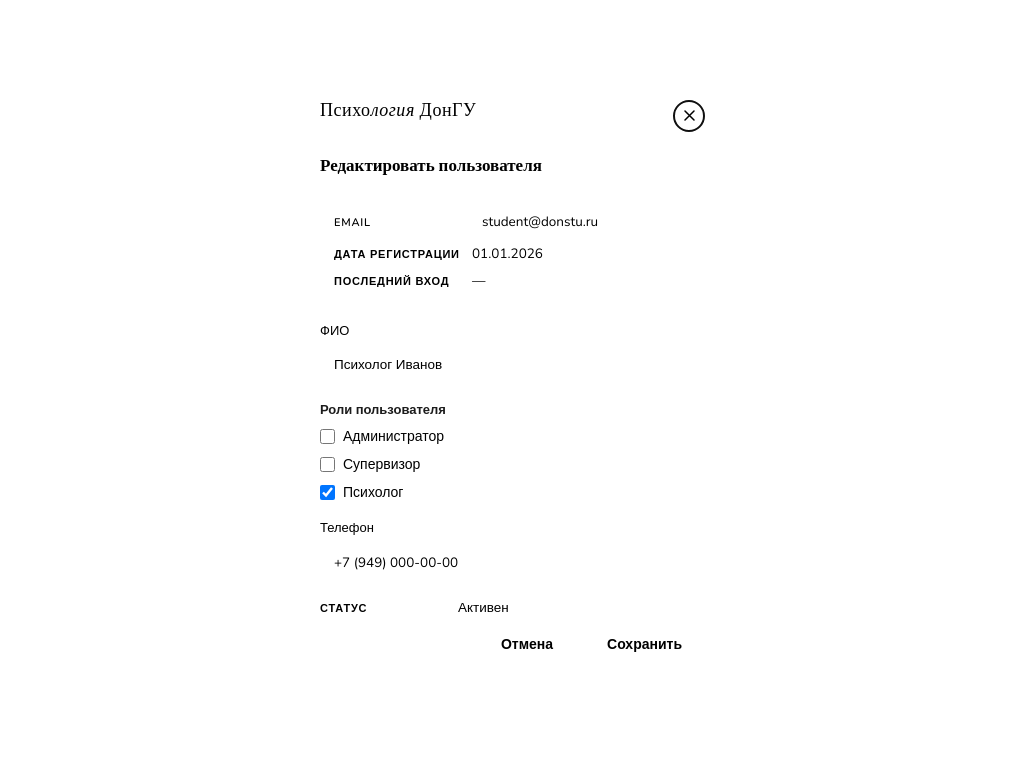
user with an existing staff role: checking another staff role reveals the legal basis block
The width and height of the screenshot is (1024, 768).
Check: the text "Документ-основание" is not shown
Click the checkbox labelled "Супервизор": click(328, 464) [320, 457, 335, 472]
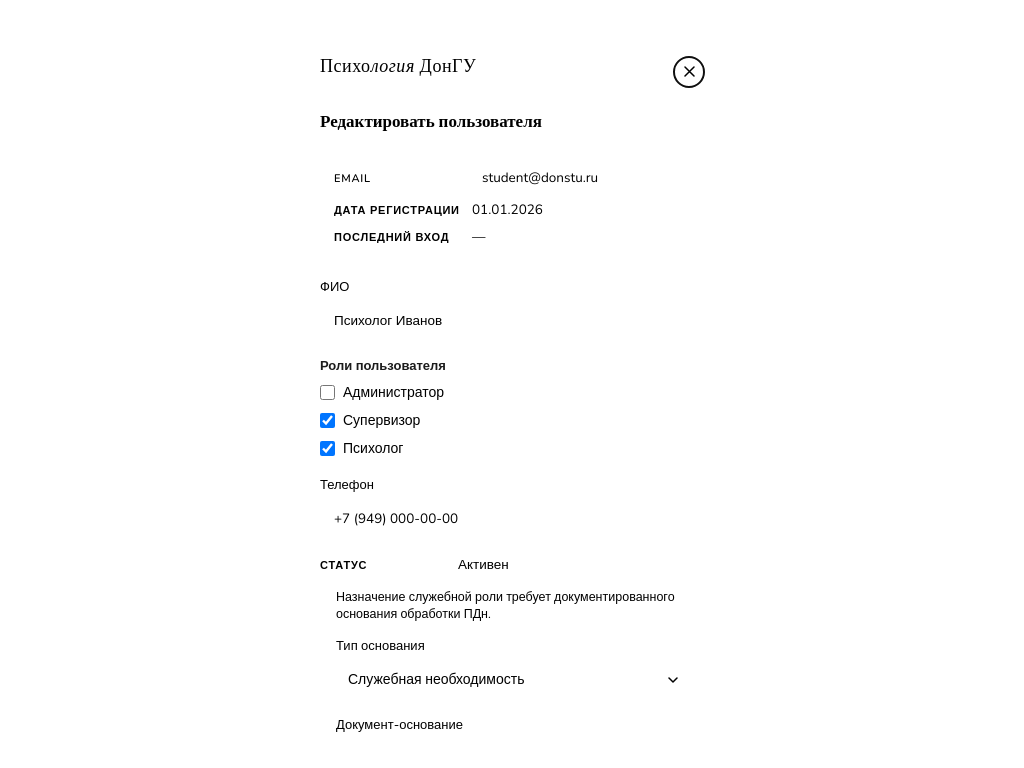
Check: the text "Документ-основание" is shown, box [336, 716, 463, 734]
